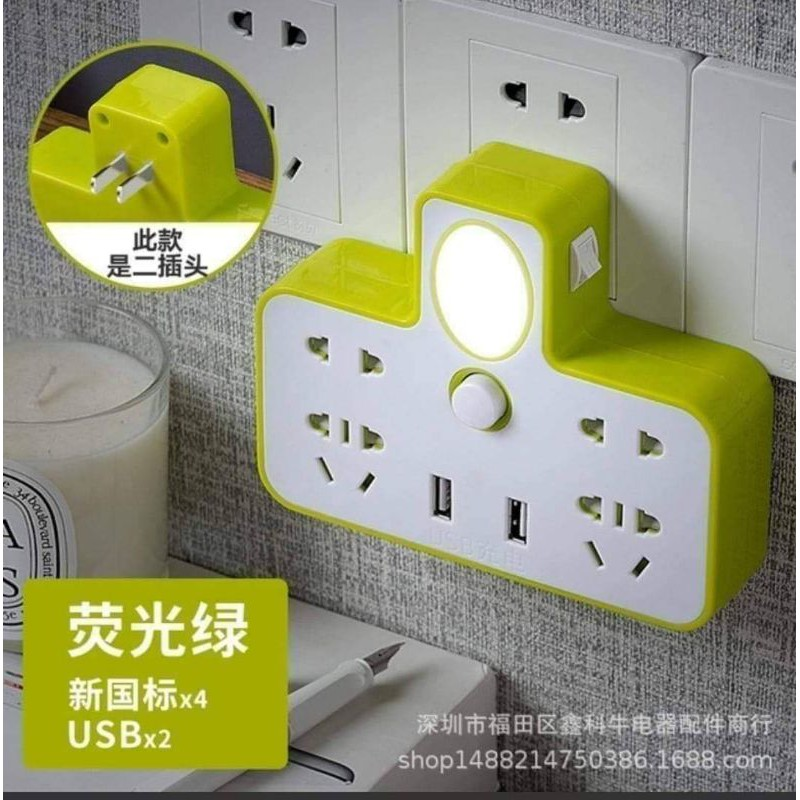Three_eye_plug: (233, 139, 778, 640), (27, 50, 268, 268)
